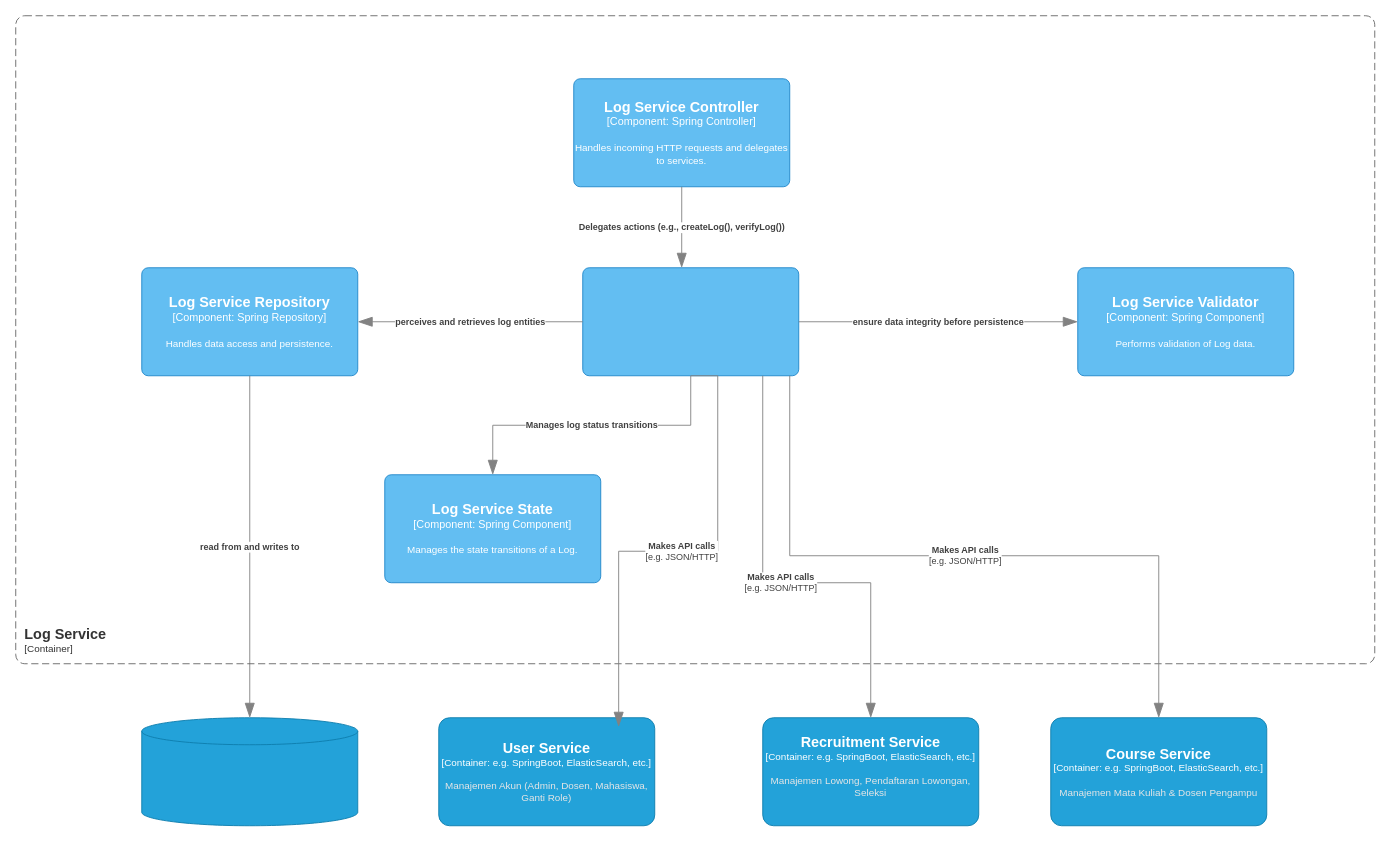
Image size: 1391x842. Some labels were removed from this diagram. Here are the shapes that lost their labels. From the top down, the centre of each, then its label:
pixel 690 321: Log Service Service [Component: Spring Service] Contains business logic
pixel 249 771: Database [Container: PostgreSQL] The persistent storage for logs
